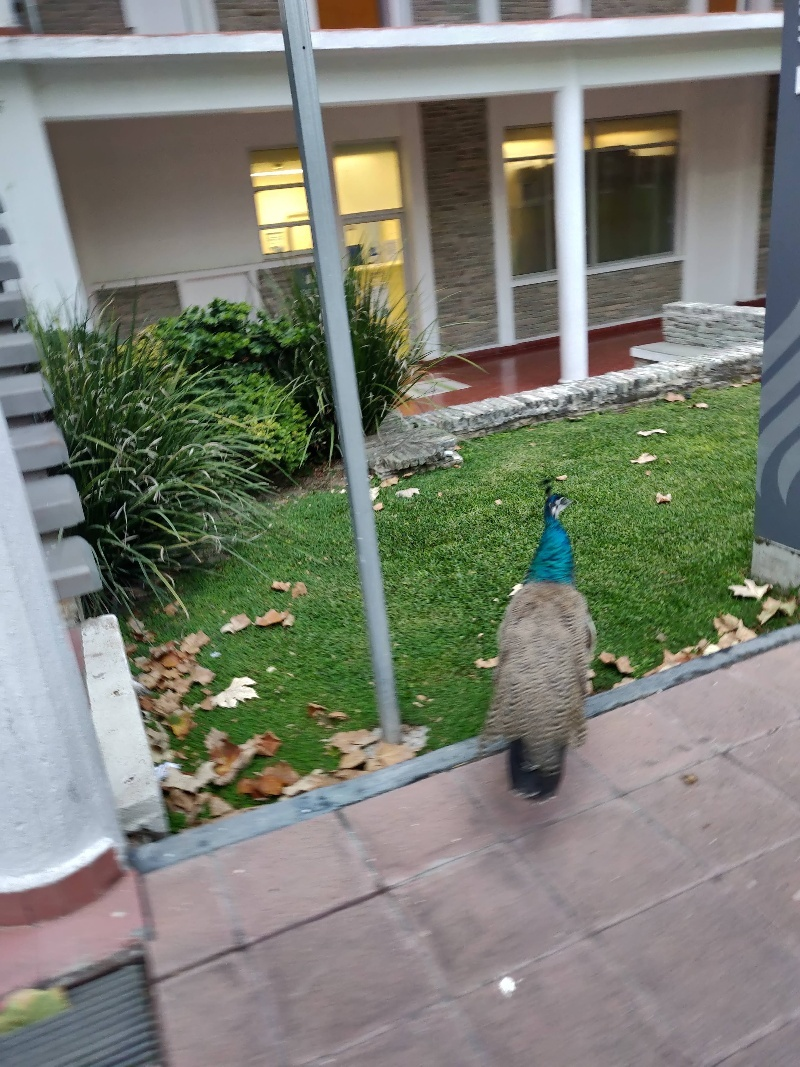pavoreal: (500, 484, 588, 778)
